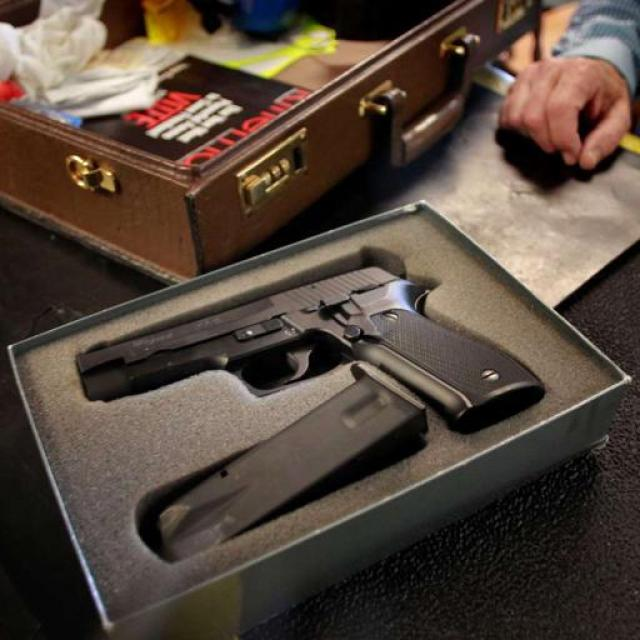pistol: (80, 260, 540, 434)
